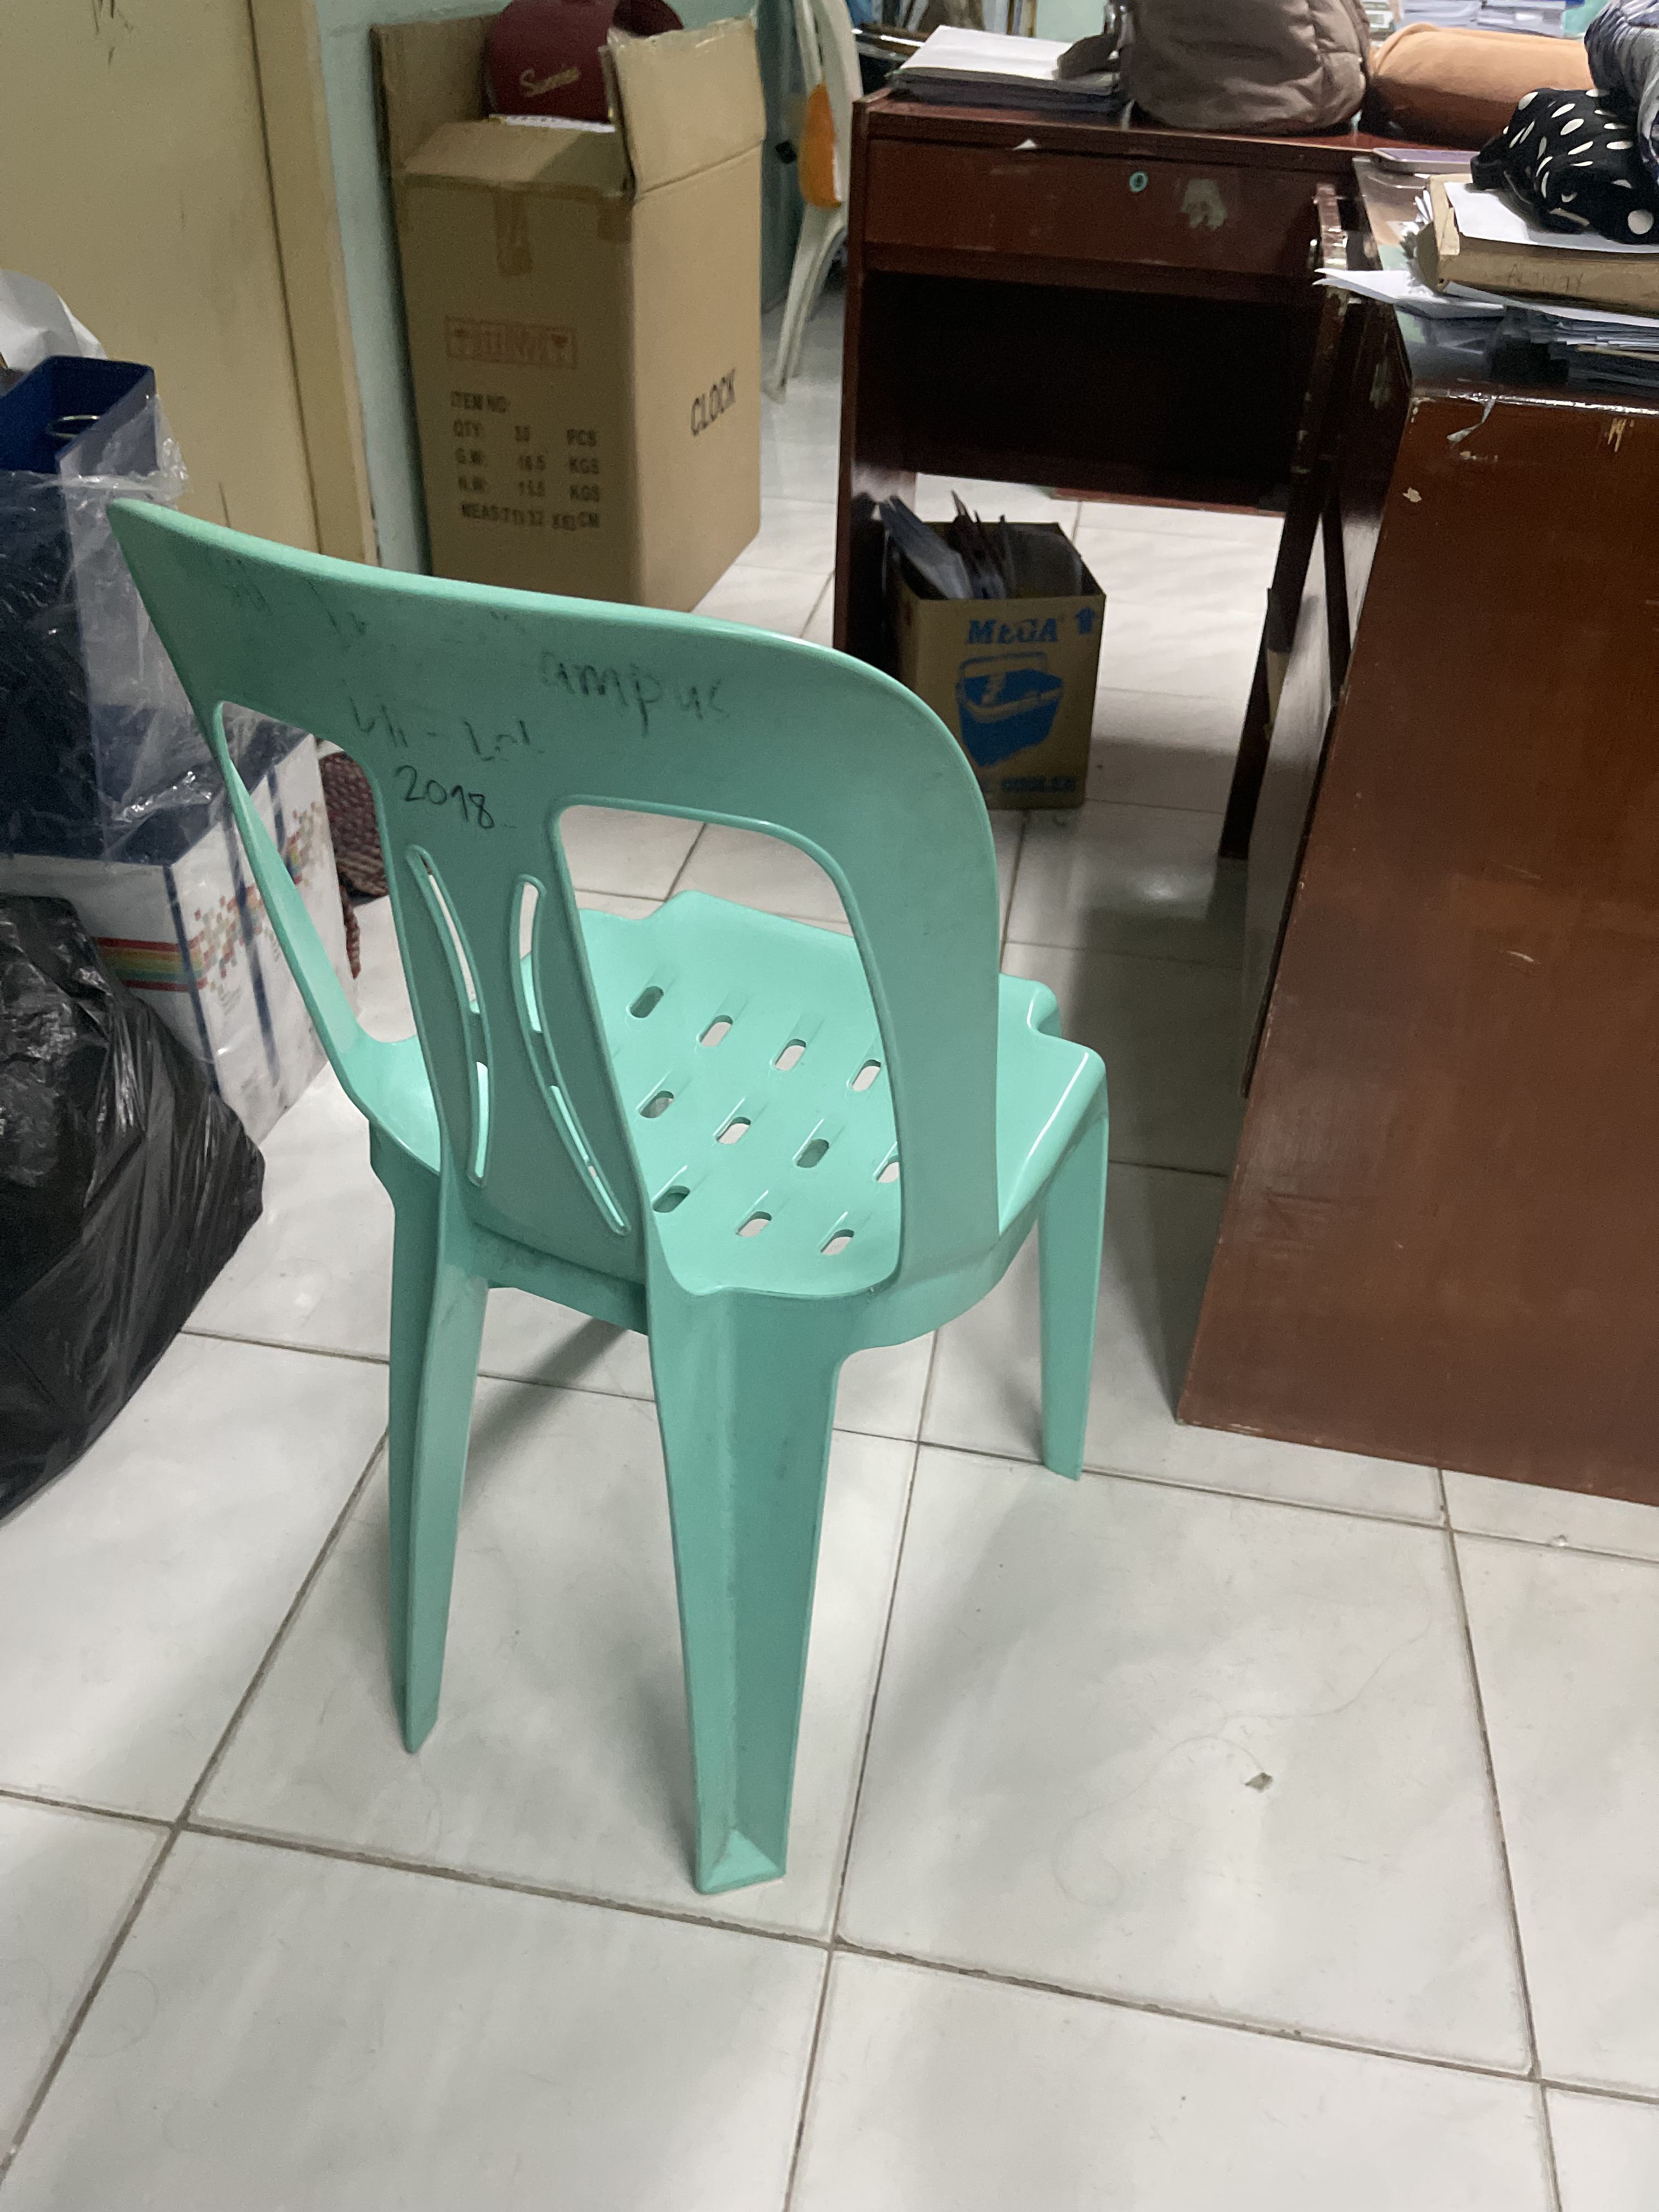chair2: (96, 486, 1121, 1912)
